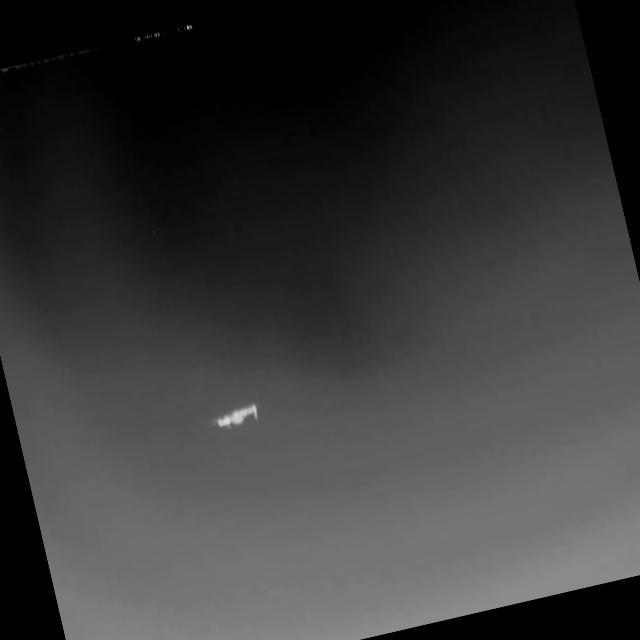DRONE: (199, 390, 272, 445)
